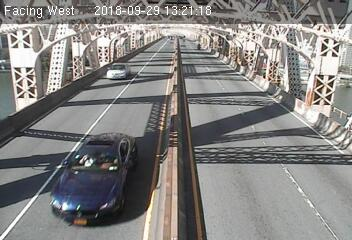car: (44, 129, 149, 228), (105, 59, 135, 85)
